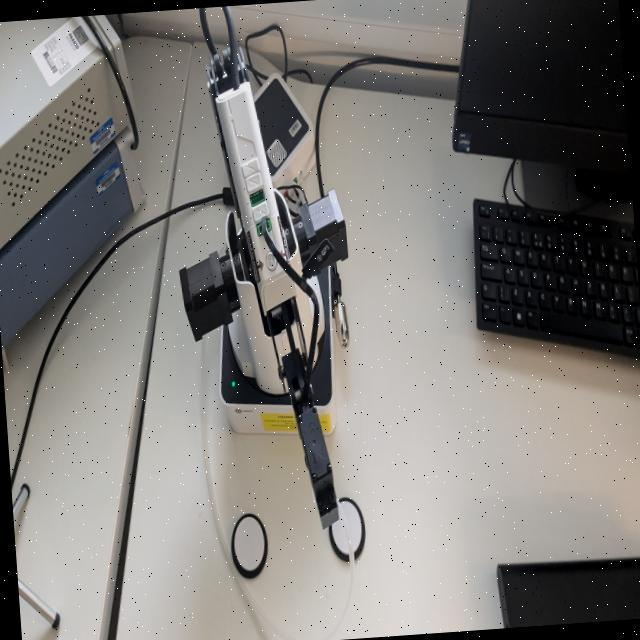Robot-end-effector-HF8z: (294, 401, 340, 532)
